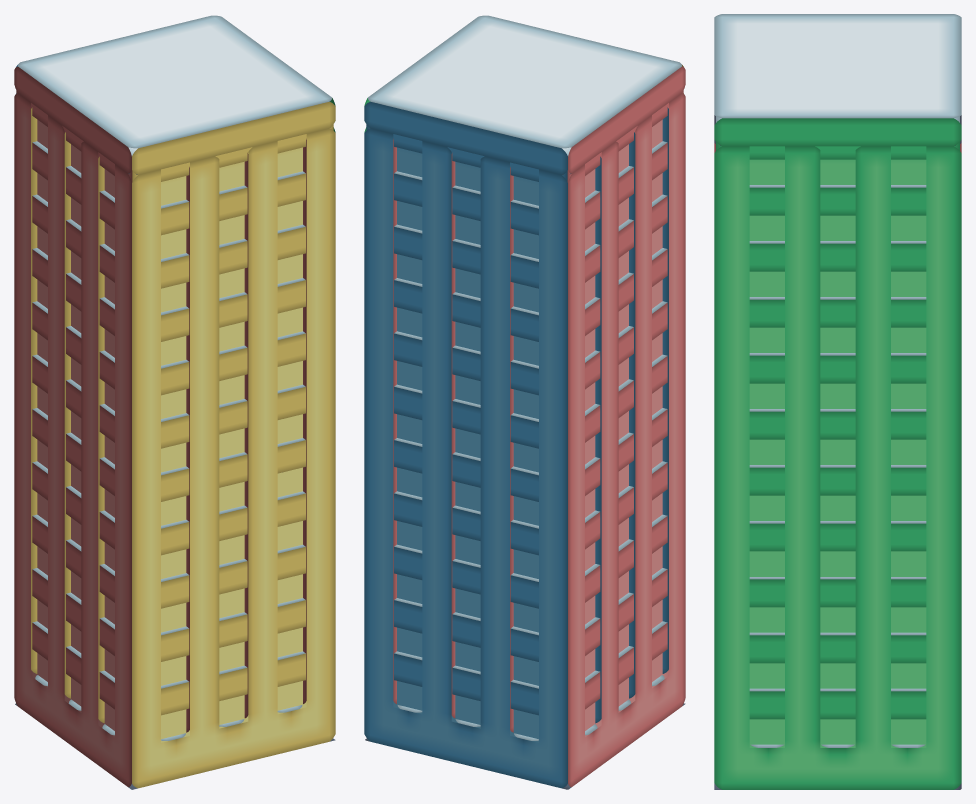
File: building4.fbx
3 renders of one model, left to right at view 1: azimuth 30°, elevation 25°; view 2: azimuth 150°, elevation 25°; view 3: azimuth 270°, elevation 25°, orthographic. The views are drawn at different scales.
Parts seen in each view (by area): view 1: cuboid_1, cuboid; view 2: cuboid_1, cuboid; view 3: cuboid_1, cuboid.
Part boxes in pixels (bbox=[...]): cuboid_1: bbox=[14, 15, 335, 789]; cuboid: bbox=[31, 119, 306, 742]; cuboid_1: bbox=[364, 15, 685, 789]; cuboid: bbox=[393, 119, 668, 742]; cuboid_1: bbox=[714, 14, 961, 789]; cuboid: bbox=[749, 159, 926, 747].
Bounding box in the file's own units: 100 × 300 × 100.
Materials: 2 (2 with a texture image).
